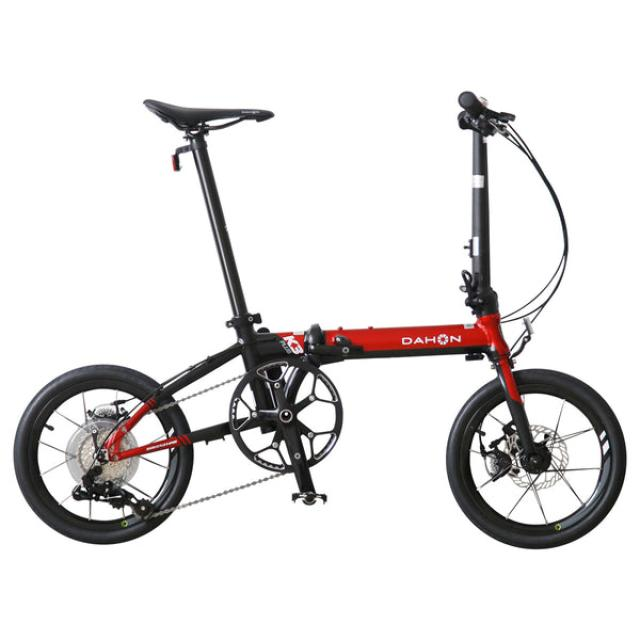folding-bike: (10, 88, 629, 553)
